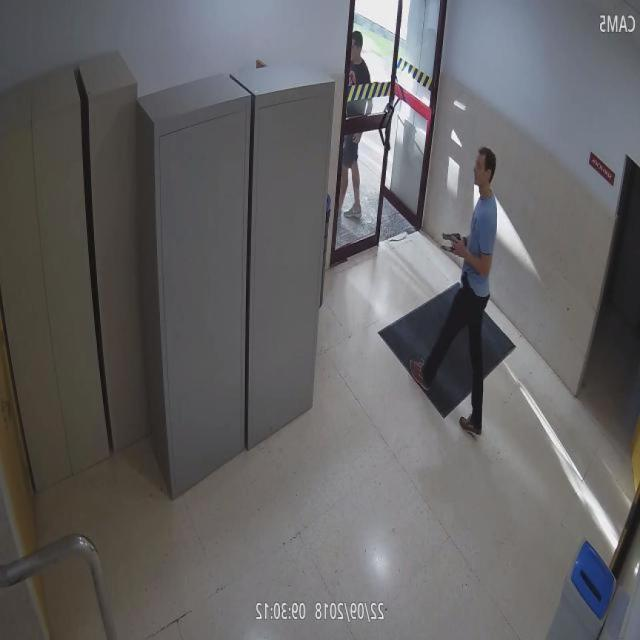pistol: (442, 230, 465, 256)
